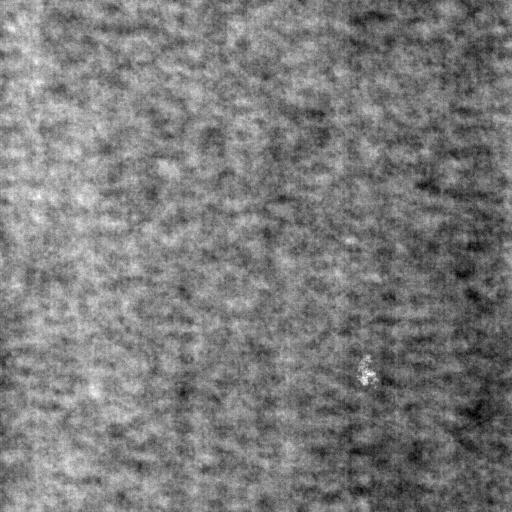DefectTypeA: (354, 354, 381, 388)
